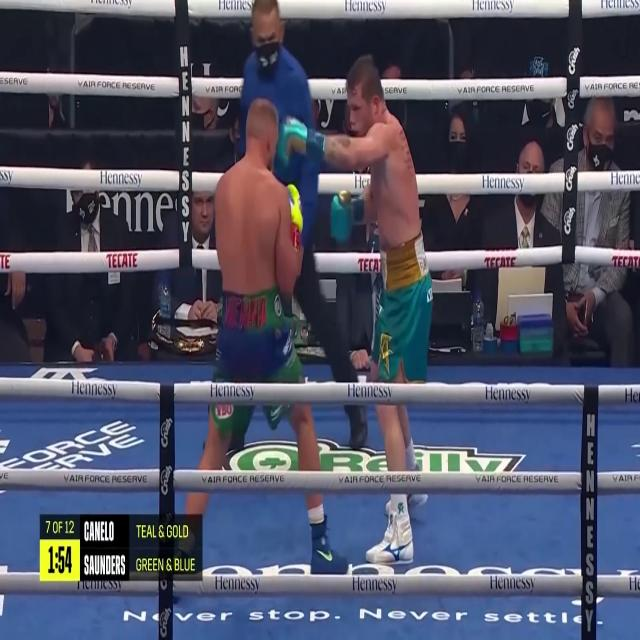boxer_1: (215, 100, 279, 294)
boxer_2: (348, 56, 419, 244)
gloves_1: (286, 183, 303, 248)
gloves_2: (277, 117, 325, 162), (331, 190, 366, 240)
